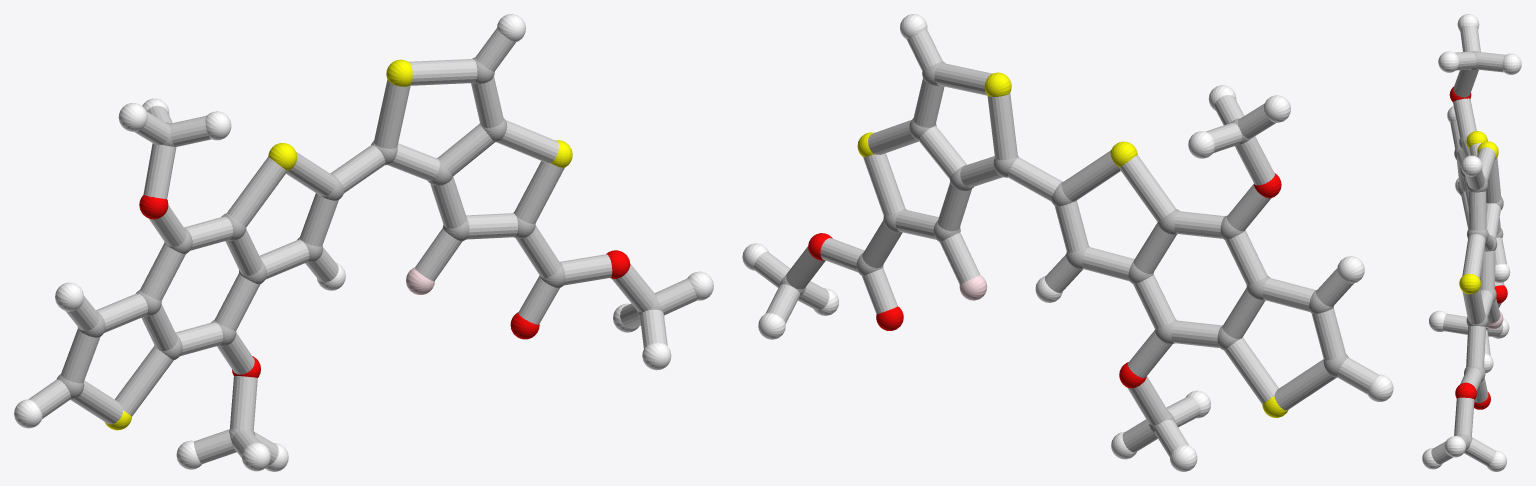
File: color.glb
The picture shows the model from 3 angles, left to right: view 1: azimuth 30°, elevation 25°; view 2: azimuth 150°, elevation 25°; view 3: azimuth 270°, elevation 25°; orthographic projection. The views are drawn at different scales.
Parts seen in each view (by area): view 1: grp15205, grp8689, grp1, grp7241, grp13395; view 2: grp15205, grp8689, grp1, grp13395, grp7241; view 3: grp15205, grp8689, grp1, grp7241, grp13395, grp14843.
Boxes of the visible parts, left/top/right/bottom form: grp15205: left=28, top=28, right=697, bottom=465; grp8689: left=14, top=14, right=713, bottom=471; grp1: left=57, top=57, right=662, bottom=440; grp7241: left=105, top=59, right=572, bottom=430; grp13395: left=139, top=195, right=630, bottom=377; grp15205: left=753, top=30, right=1378, bottom=457; grp8689: left=742, top=14, right=1393, bottom=471; grp1: left=779, top=61, right=1348, bottom=433; grp13395: left=808, top=173, right=1281, bottom=388; grp7241: left=857, top=72, right=1288, bottom=417; grp15205: left=1431, top=26, right=1506, bottom=466; grp8689: left=1422, top=14, right=1521, bottom=471; grp1: left=1454, top=51, right=1503, bottom=451; grp7241: left=1459, top=131, right=1498, bottom=294; grp13395: left=1449, top=86, right=1507, bottom=409; grp14843: left=1486, top=311, right=1503, bottom=329.
Bounding box in the file's own units: 16.37 × 9.32 × 2.77.
